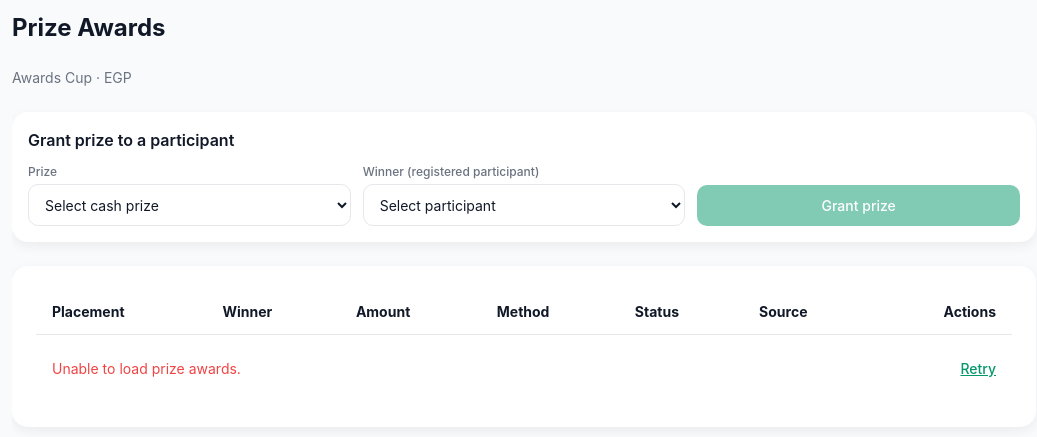
TournamentAwardsPage — F-02 fetch-error states › awards failure: shows error + Retry instead of "No prize awards yet." while the grant card still renders; Retry recovers the rows
Expected: the text "Unable to load prize awards." is shown, [52,359,241,379]
Expected: the heading "Grant prize to a participant" is shown, [28,130,234,150]
What coordinates should you click on to do the following:
click the button "Retry"
I would click on:
 (978, 369)
Its box is [960,359,996,379].
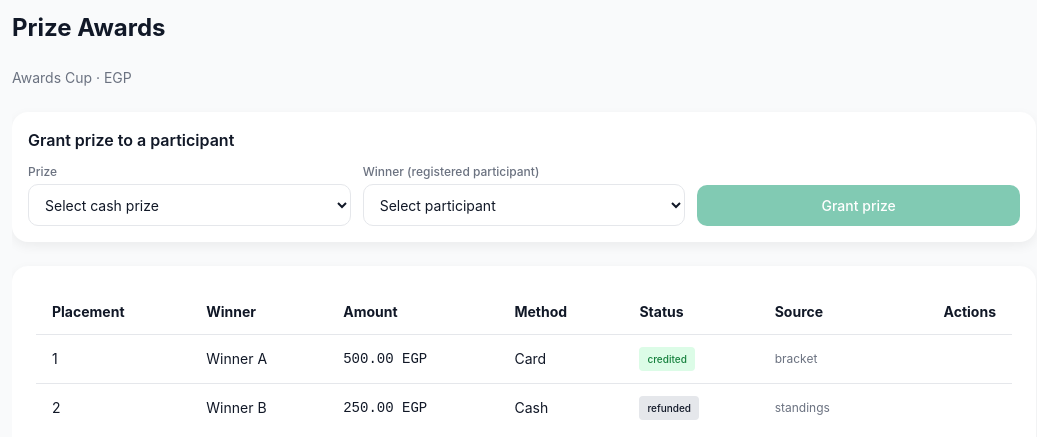
Now the text "Winner A" is shown, box [190,334,327,384]
